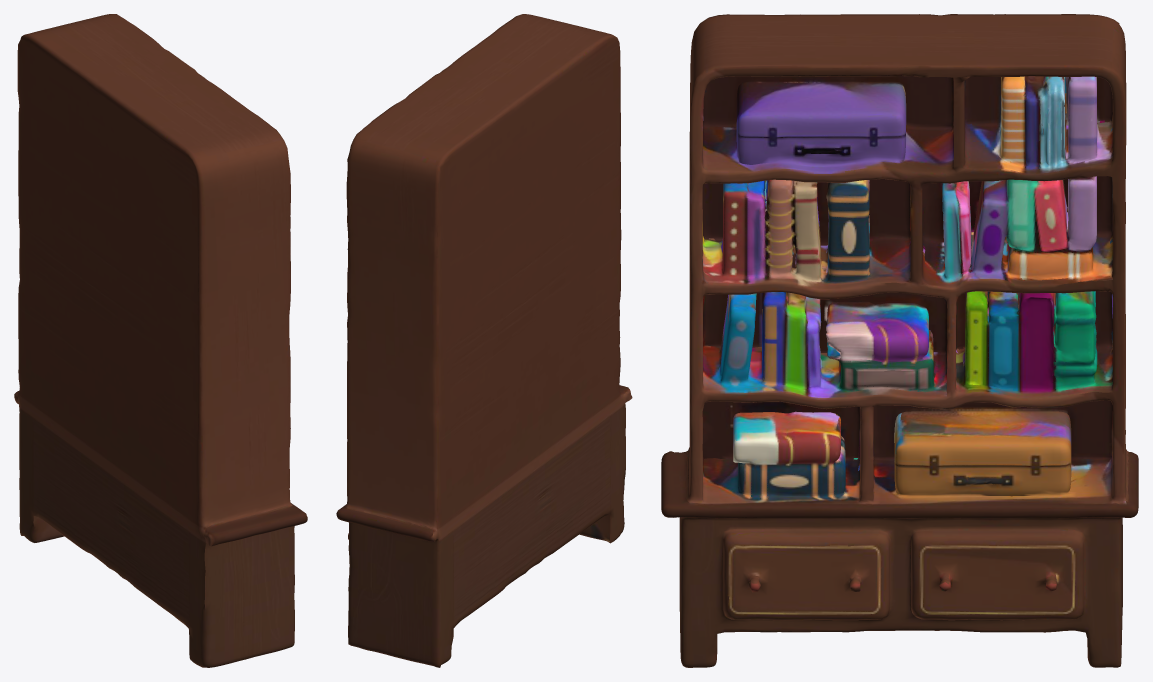
File: librero+3d.fbx
3 renders of one model, left to right at view 1: azimuth 30°, elevation 25°; view 2: azimuth 150°, elevation 25°; view 3: azimuth 270°, elevation 25°, orthographic. The views are drawn at different scales.
Parts seen in each view (by area): view 1: tripo_node_54919806; view 2: tripo_node_54919806; view 3: tripo_node_54919806.
Part boxes in pixels (x1,y1,x2,y2): tripo_node_54919806: (14, 14, 307, 667); tripo_node_54919806: (336, 14, 632, 667); tripo_node_54919806: (661, 14, 1138, 667).
Bounding box in the file's own units: 0.248 × 1 × 0.7179.
Materials: 1 (1 with a texture image).
